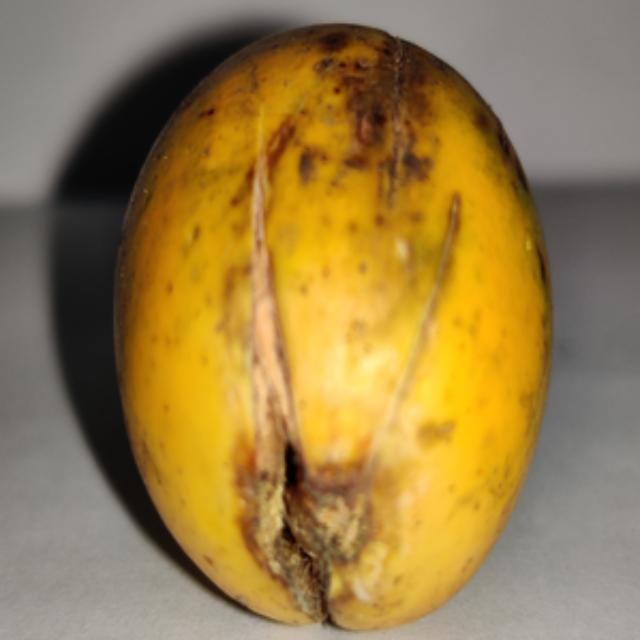damaged: (109, 24, 554, 634)
